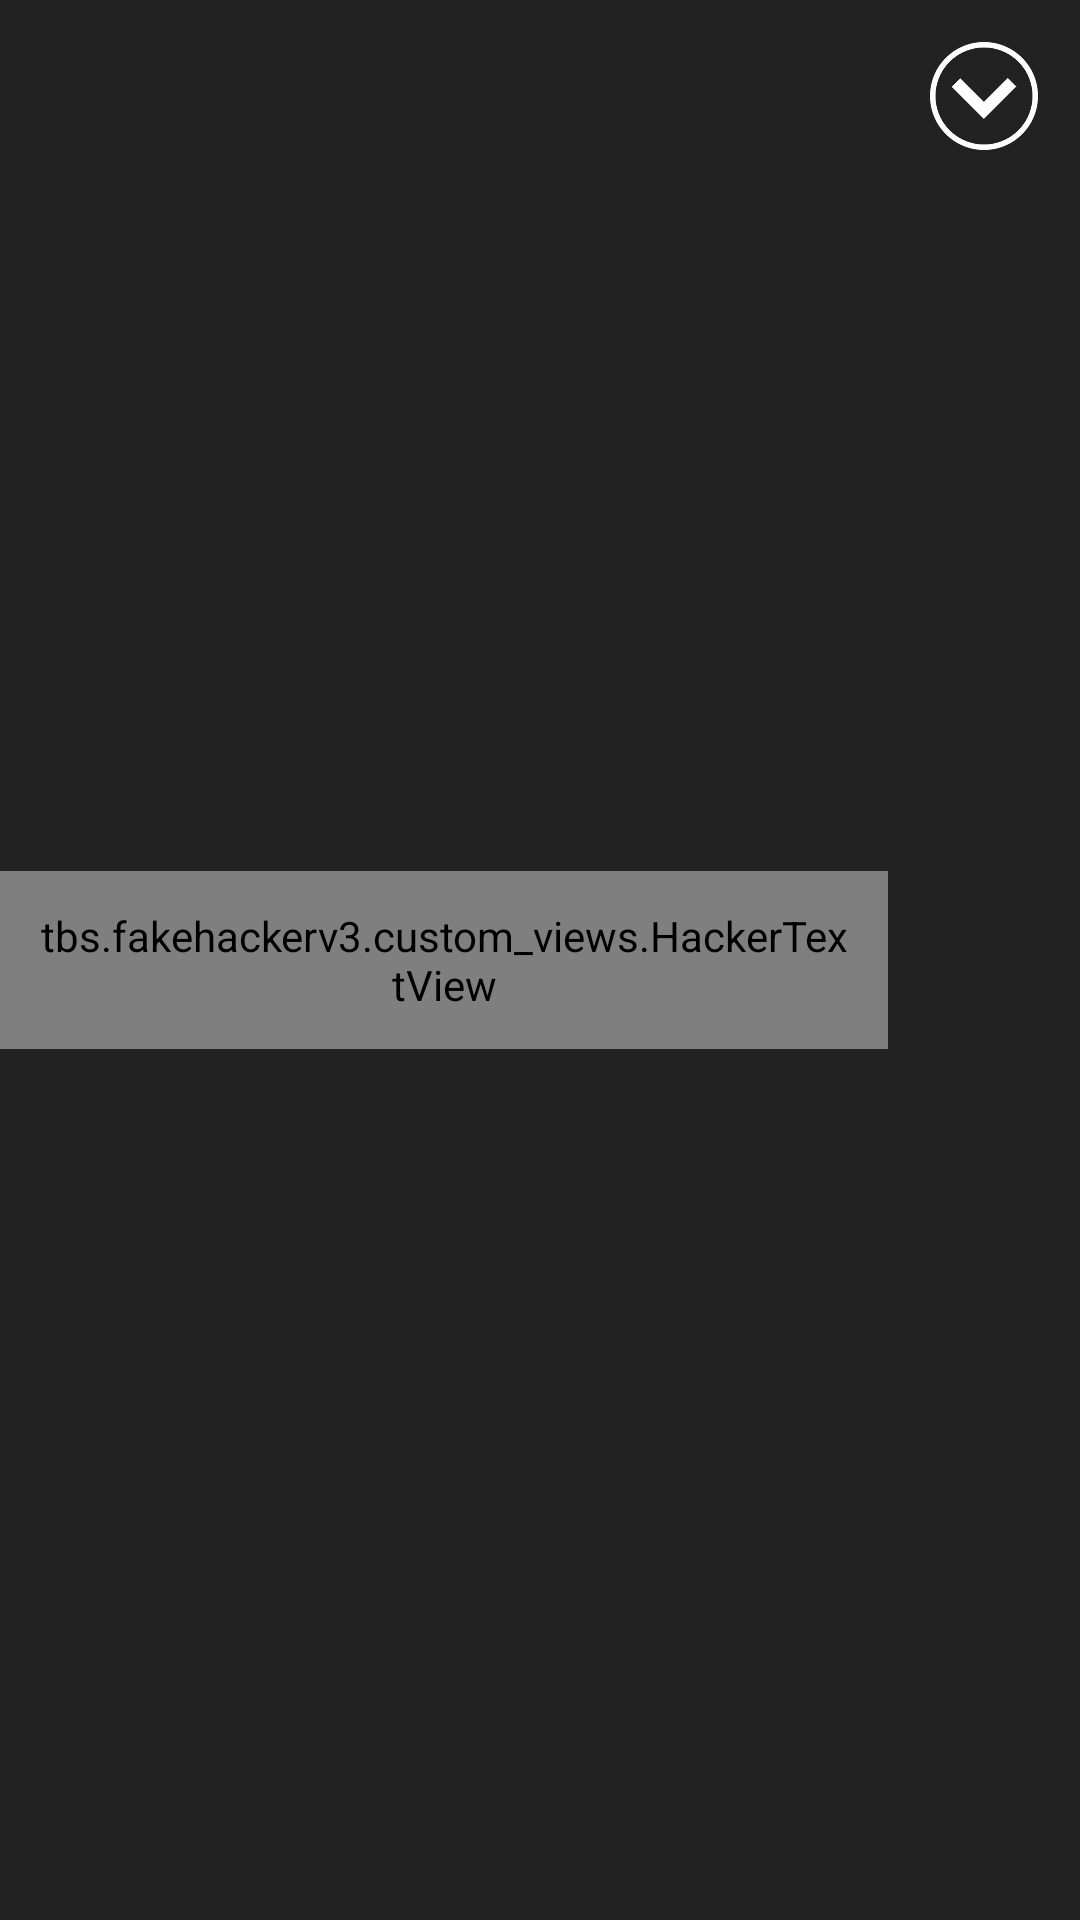

Where icons sit on this 1080px×1920px app screen, as (x1, y1, x2, y2):
down arrow: (930, 42, 1038, 150)
